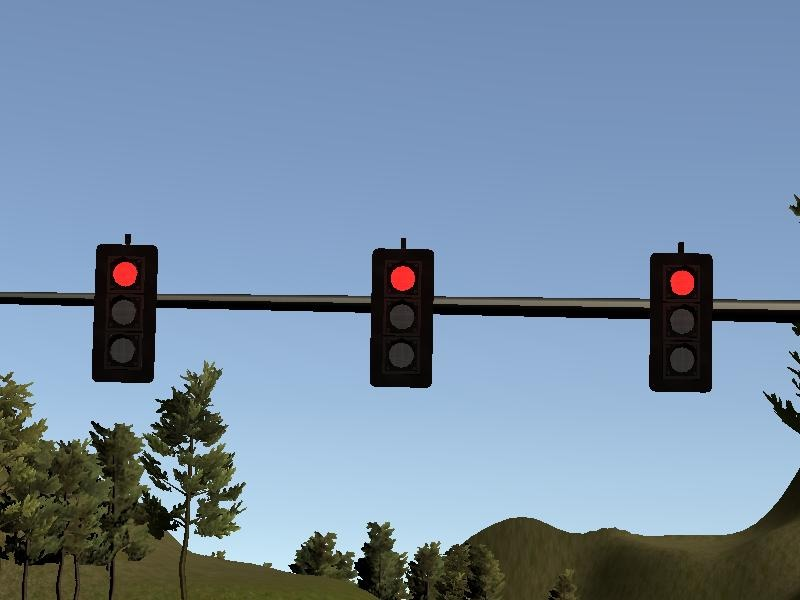red: (94, 244, 159, 381), (648, 254, 713, 391), (370, 250, 435, 387)
